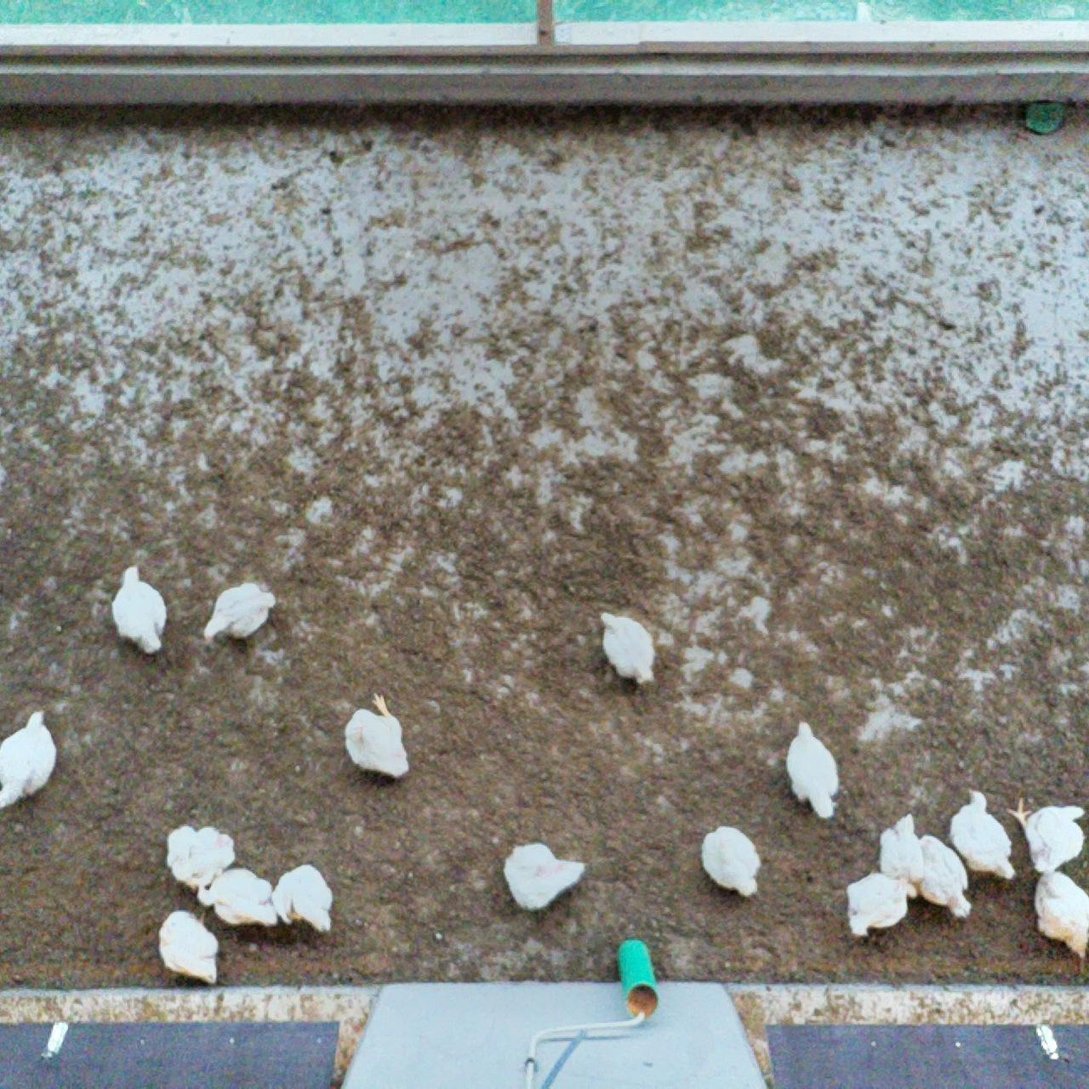chicken: (1002, 792, 1088, 873), (946, 786, 1018, 881), (500, 842, 593, 915), (780, 717, 841, 825), (0, 706, 59, 817), (341, 689, 412, 781), (110, 562, 170, 656), (154, 905, 222, 987), (915, 834, 977, 923), (195, 866, 281, 930), (842, 866, 919, 935), (201, 580, 279, 647), (697, 823, 763, 902), (1032, 866, 1089, 957), (597, 604, 659, 686), (276, 859, 342, 932), (165, 818, 237, 884), (879, 809, 925, 904)
